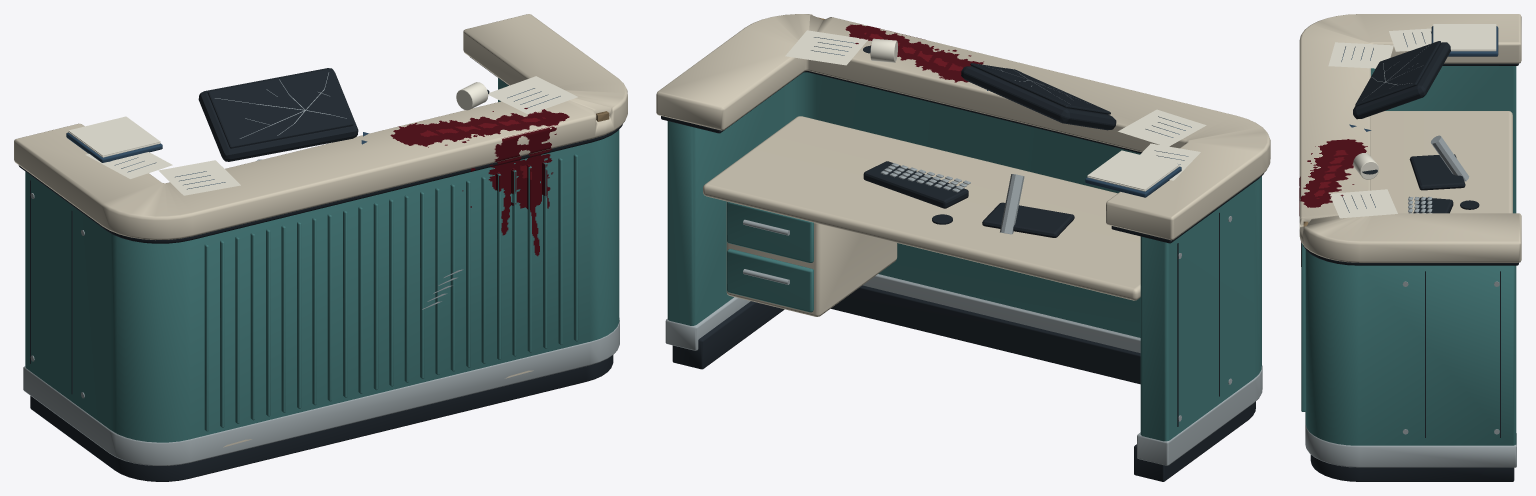
Rendered from reception_desk.glb.
3 views of the same model, side by side, from view 1: azimuth 30°, elevation 25°; view 2: azimuth 150°, elevation 25°; view 3: azimuth 270°, elevation 25° (orthographic). The views are drawn at different scales.
Parts seen in each view (by area): view 1: Outbreak_Reception_Desk_v3_Static; view 2: Outbreak_Reception_Desk_v3_Static; view 3: Outbreak_Reception_Desk_v3_Static.
Boxes of the visible parts, <box> form: Outbreak_Reception_Desk_v3_Static: <box>14,14,627,481</box>; Outbreak_Reception_Desk_v3_Static: <box>656,14,1270,481</box>; Outbreak_Reception_Desk_v3_Static: <box>1299,14,1521,481</box>.
Size of the model in its own units: 2.2 by 1.3 by 0.9004.
